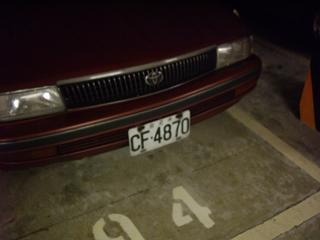plate: (126, 118, 193, 153)
